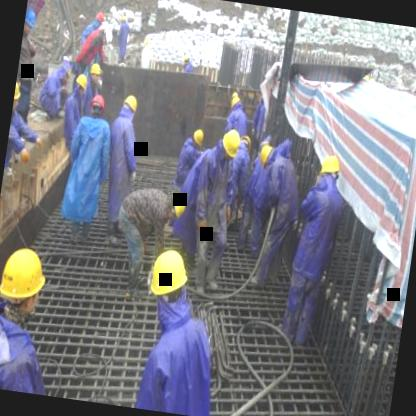helmet: (0, 237, 52, 323), (144, 242, 194, 314), (314, 146, 343, 184), (219, 129, 242, 162), (164, 190, 188, 221), (86, 91, 108, 119), (22, 3, 38, 40), (255, 142, 275, 170), (188, 126, 207, 150), (70, 73, 90, 94), (237, 132, 253, 154), (88, 60, 102, 84), (13, 76, 22, 113), (90, 9, 105, 27), (228, 94, 242, 112)
